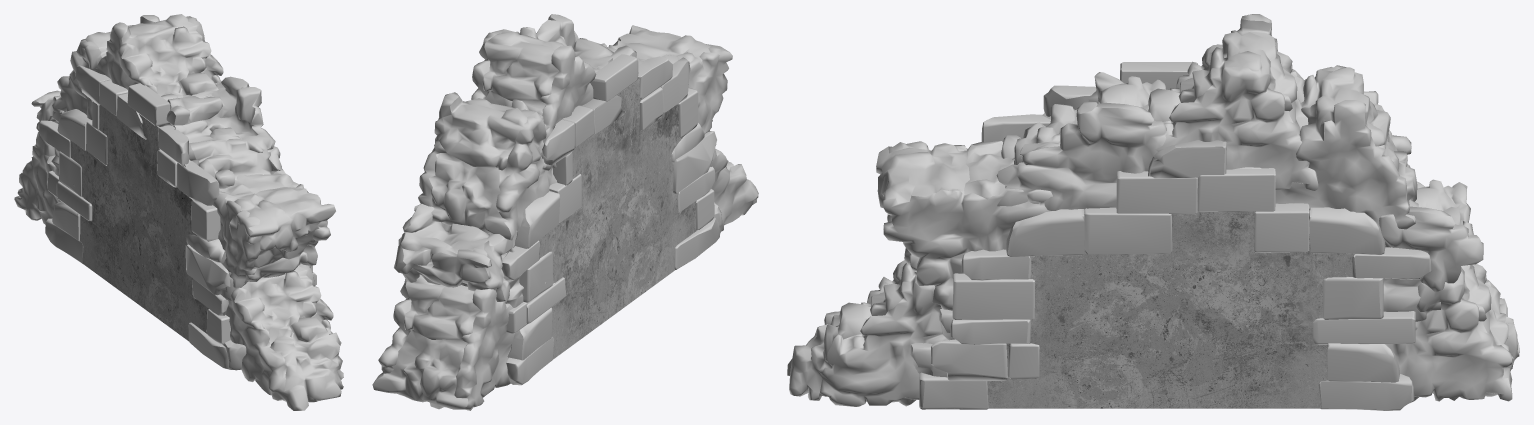
Rendered from SM_Wall_8x8_Broken_01c.fbx.
3 renders of one model, left to right at view 1: azimuth 30°, elevation 25°; view 2: azimuth 150°, elevation 25°; view 3: azimuth 270°, elevation 25°, orthographic. The views are drawn at different scales.
Visible parts, largest first — view 1: SM_Wall_8x8_Broken_01c_LOD0; view 2: SM_Wall_8x8_Broken_01c_LOD0; view 3: SM_Wall_8x8_Broken_01c_LOD0.
Boxes of the visible parts, x1,y1,x2,y2 form: SM_Wall_8x8_Broken_01c_LOD0: (14,14,343,410); SM_Wall_8x8_Broken_01c_LOD0: (372,14,758,410); SM_Wall_8x8_Broken_01c_LOD0: (787,14,1519,410).
Size of the model in its own units: 230 by 1018 by 541.
